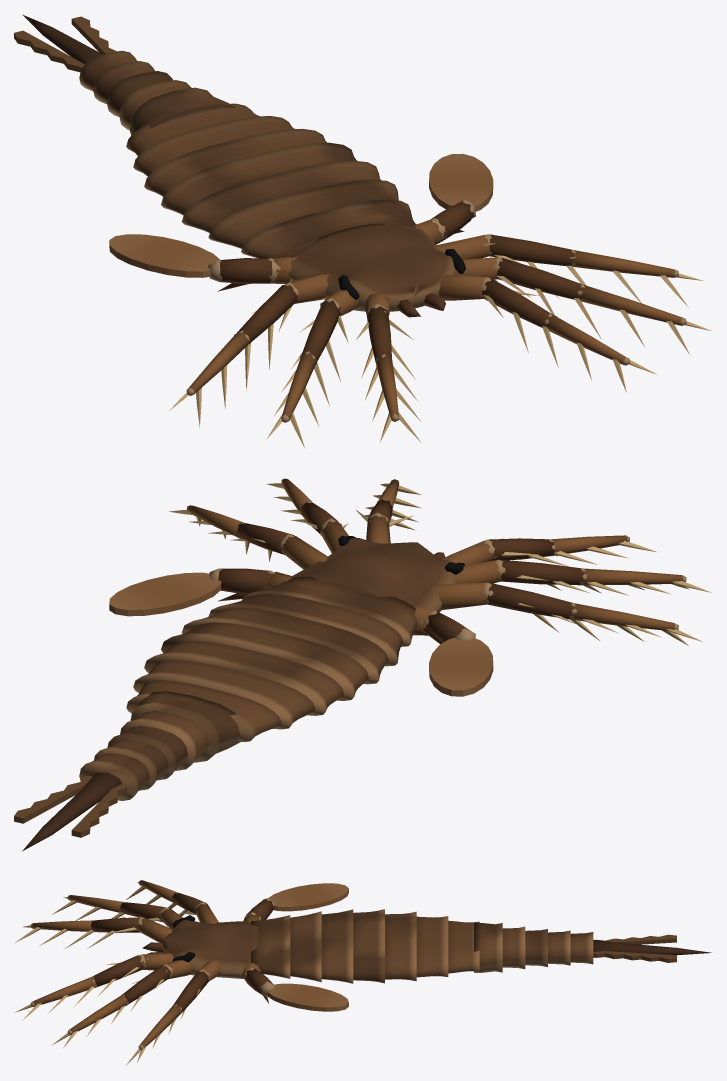
The model's file is MegalograptusOhioensis.fbx.
The picture shows the model from 3 angles, top to bottom: view 1: azimuth 30°, elevation 25°; view 2: azimuth 150°, elevation 25°; view 3: azimuth 270°, elevation 25°; orthographic projection. The views are drawn at different scales.
Visible parts, largest first — view 1: MegalograptusOhioensis; view 2: MegalograptusOhioensis; view 3: MegalograptusOhioensis.
Boxes of the visible parts, <box> form: MegalograptusOhioensis: <box>14,14,711,447</box>; MegalograptusOhioensis: <box>14,478,711,851</box>; MegalograptusOhioensis: <box>14,880,711,1065</box>.
Size of the model in its own units: 1.44 by 0.2016 by 2.34.
